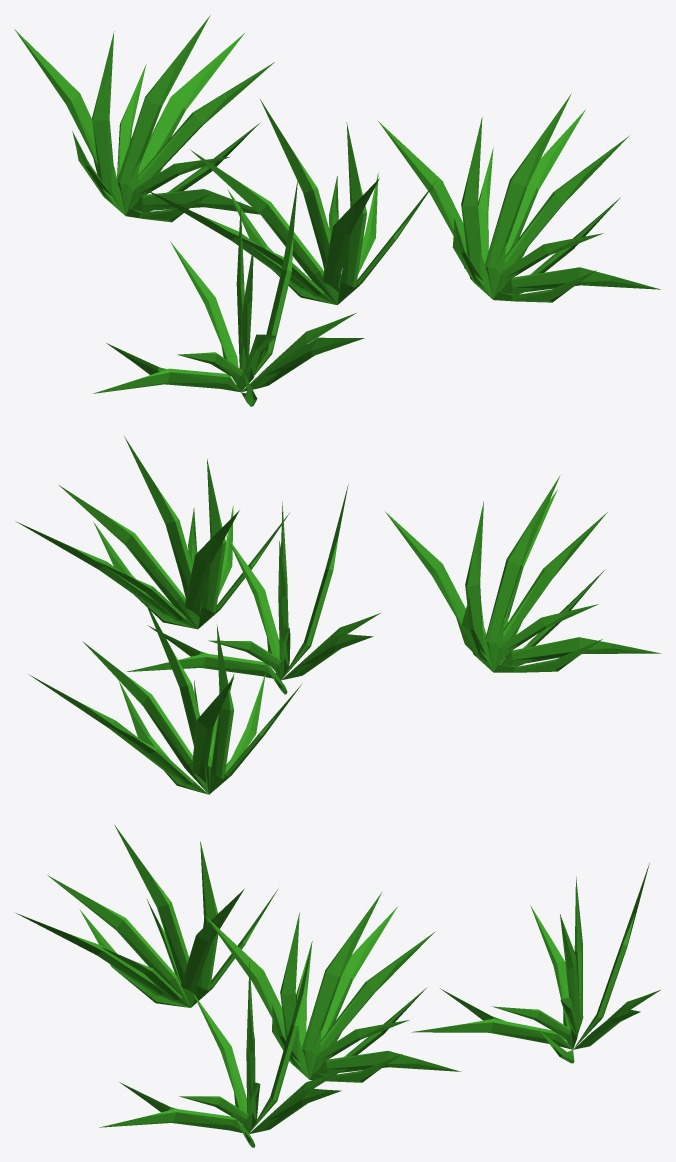
The model's file is grass.glb.
3 views of the same model, one above another, from view 1: azimuth 30°, elevation 25°; view 2: azimuth 150°, elevation 25°; view 3: azimuth 270°, elevation 25° (orthographic). The views are drawn at different scales.
Visible parts, largest first — view 1: Cogon.Grass.000; view 2: Cogon.Grass.000; view 3: Cogon.Grass.000.
Part boxes in pixels (left/top/right/bottom): Cogon.Grass.000: left=14, top=15, right=660, bottom=406; Cogon.Grass.000: left=15, top=436, right=661, bottom=794; Cogon.Grass.000: left=16, top=824, right=660, bottom=1147.
Bounding box in the file's own units: 0.9109 × 0.276 × 0.944.
